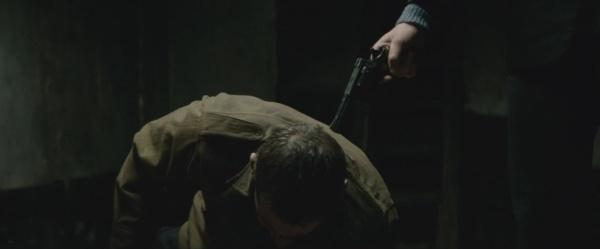Gun: (329, 45, 391, 134)
